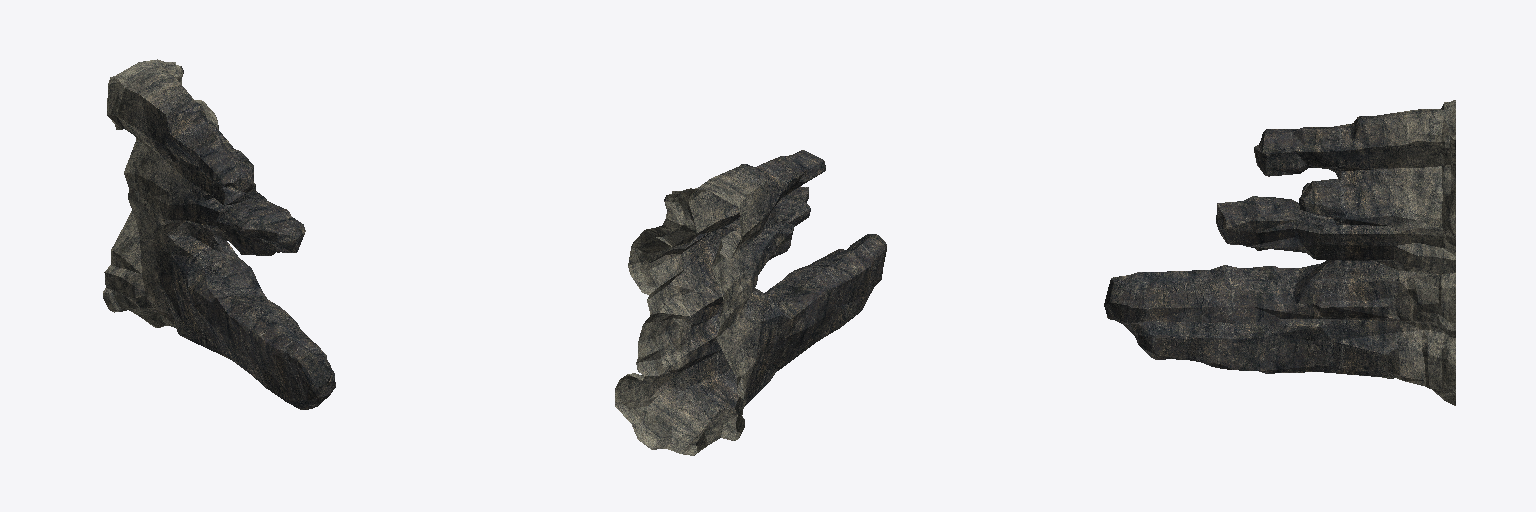
The picture shows the model from 3 angles: view 1: azimuth 30°, elevation 25°; view 2: azimuth 150°, elevation 25°; view 3: azimuth 270°, elevation 25°; orthographic projection.
Parts seen in each view (by area): view 1: Body.rock_desert_d.smd.mesh_0; view 2: Body.rock_desert_d.smd.mesh_0; view 3: Body.rock_desert_d.smd.mesh_0.
Part boxes in pixels (bbox=[...]): Body.rock_desert_d.smd.mesh_0: bbox=[103, 59, 335, 409]; Body.rock_desert_d.smd.mesh_0: bbox=[615, 150, 886, 455]; Body.rock_desert_d.smd.mesh_0: bbox=[1104, 100, 1455, 405].
Bounding box in the file's own units: 281 × 561 × 655.
1 materials, 1 textured.